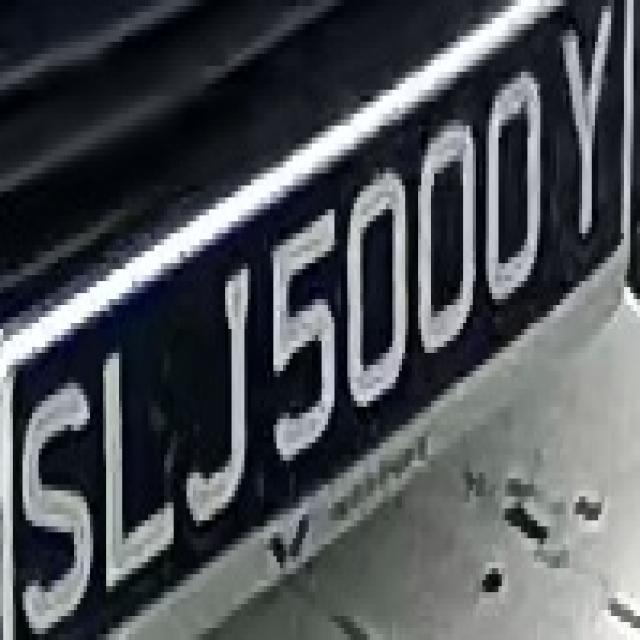0: (344, 156, 415, 412), (412, 114, 479, 365), (479, 60, 547, 305)
5: (254, 216, 344, 484)
J: (177, 252, 270, 532)
L: (103, 323, 186, 592)
S: (0, 4, 1, 6)
Y: (556, 6, 618, 251)
